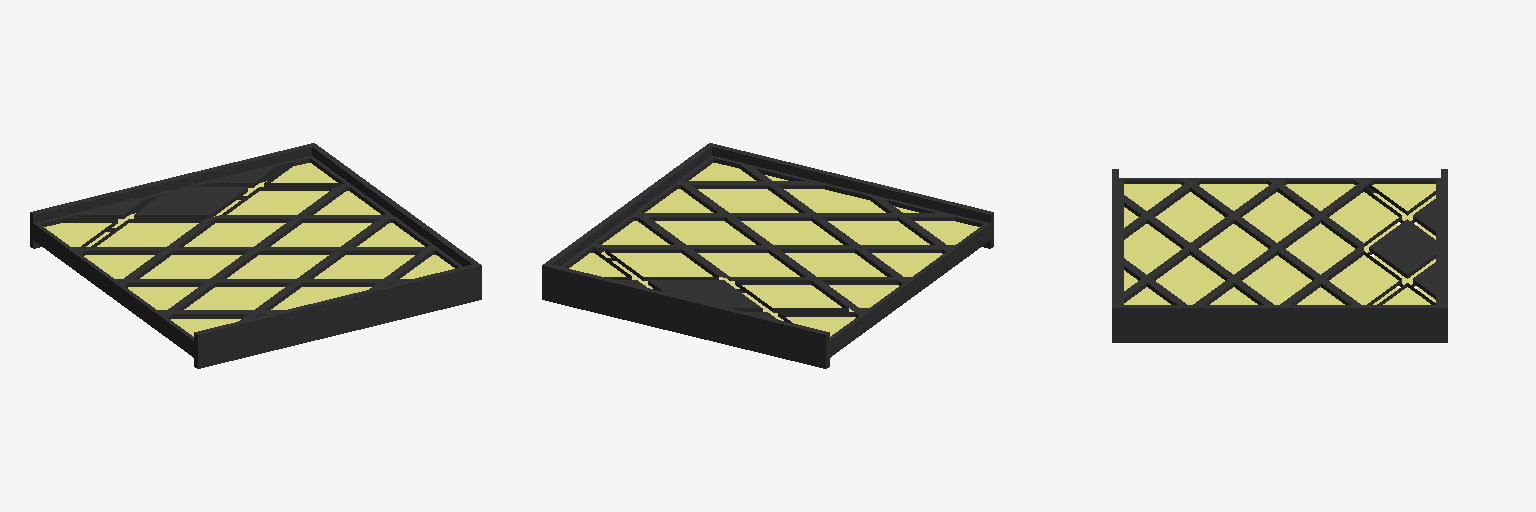
Rendered from filter.obj.
3 renders of one model, left to right at view 1: azimuth 30°, elevation 25°; view 2: azimuth 150°, elevation 25°; view 3: azimuth 270°, elevation 25°, orthographic.
Visible parts, largest first — view 1: Filter_FilterGeom; view 2: Filter_FilterGeom; view 3: Filter_FilterGeom.
Boxes of the visible parts, <box> form: Filter_FilterGeom: <box>30,143,481,368</box>; Filter_FilterGeom: <box>542,143,993,368</box>; Filter_FilterGeom: <box>1112,169,1447,342</box>.
Bounding box in the file's own units: 1.71 × 0.1972 × 1.75.